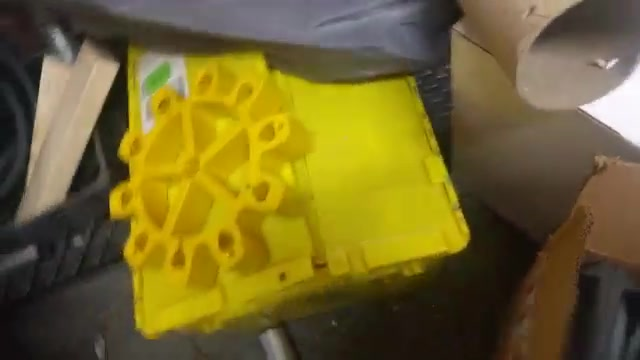gear: (92, 56, 314, 301)
